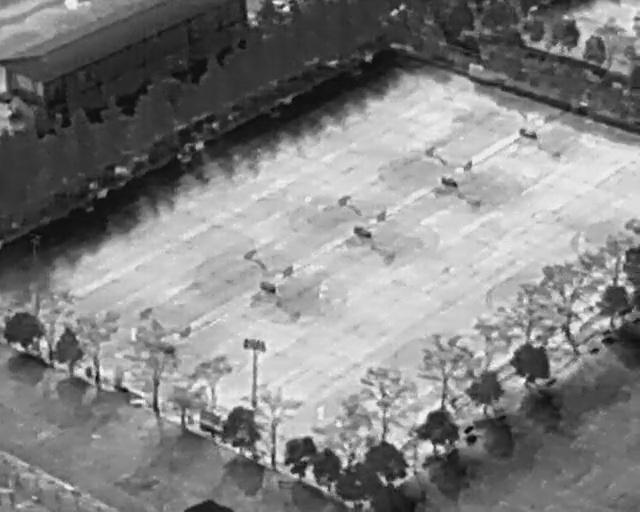Person: (129, 325, 138, 343), (316, 403, 325, 420)
